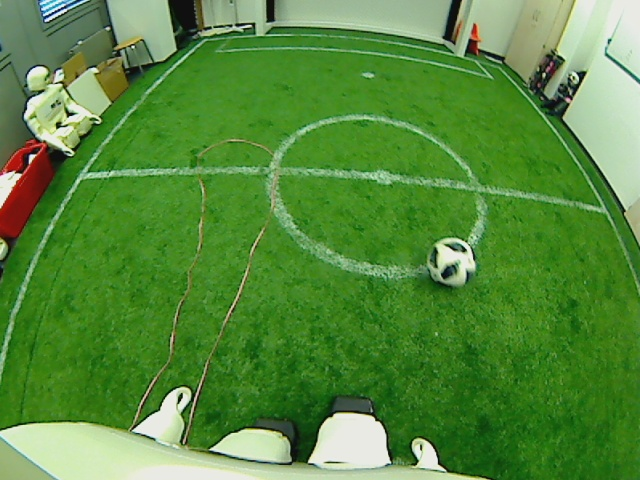ball: (425, 236, 477, 285)
